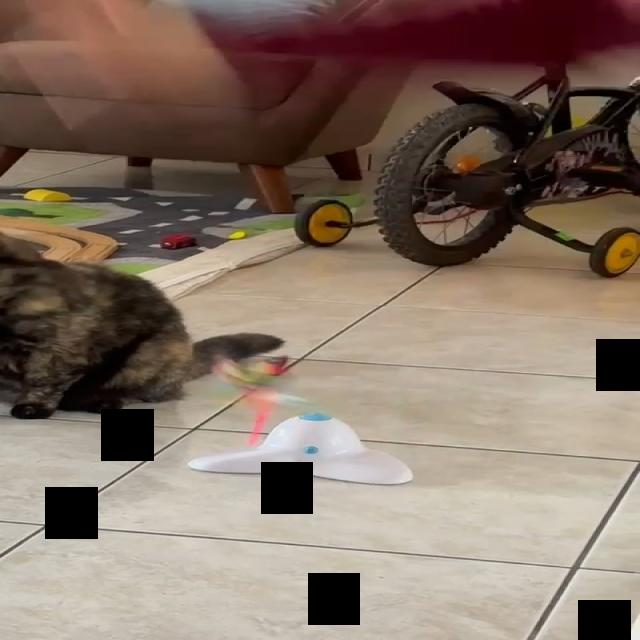authorized: (0, 231, 285, 419)
